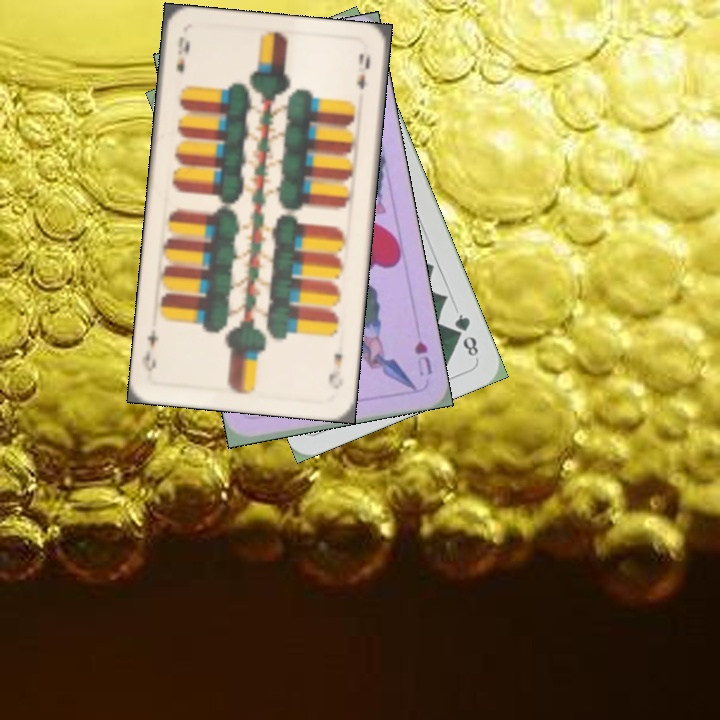E9: (324, 349, 346, 392), (172, 33, 192, 76)
G8: (450, 309, 481, 359)
HU: (410, 337, 435, 379)
